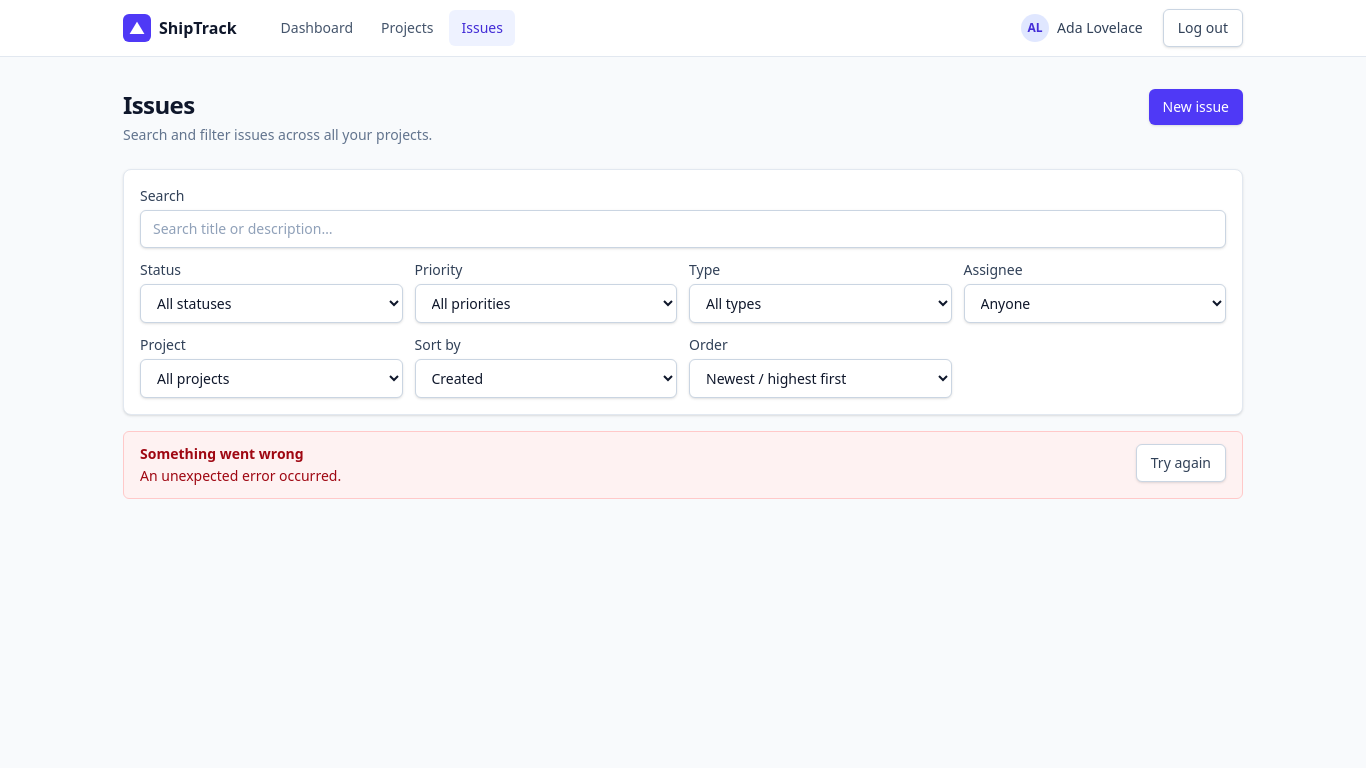
issues list › shows an error state and recovers on retry
Expected: the text "An unexpected error occurred." is shown, x1=140 y1=466 x2=341 y2=486
What coordinates should you click on to do the following:
click the button "Try again"
I would click on:
 (1181, 463)
Its box is x1=1136 y1=444 x2=1226 y2=482.
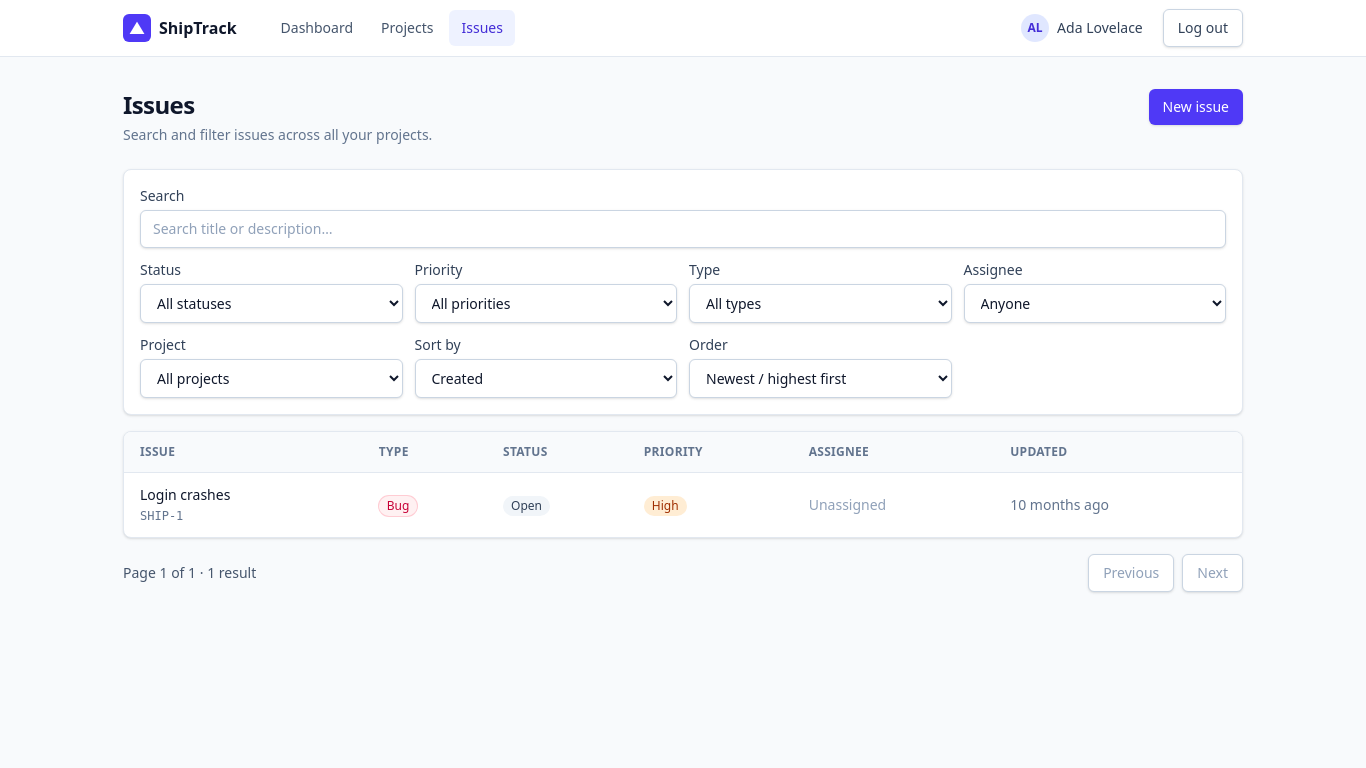
Result: the link "Login crashes" is shown at x1=140 y1=485 x2=230 y2=504
